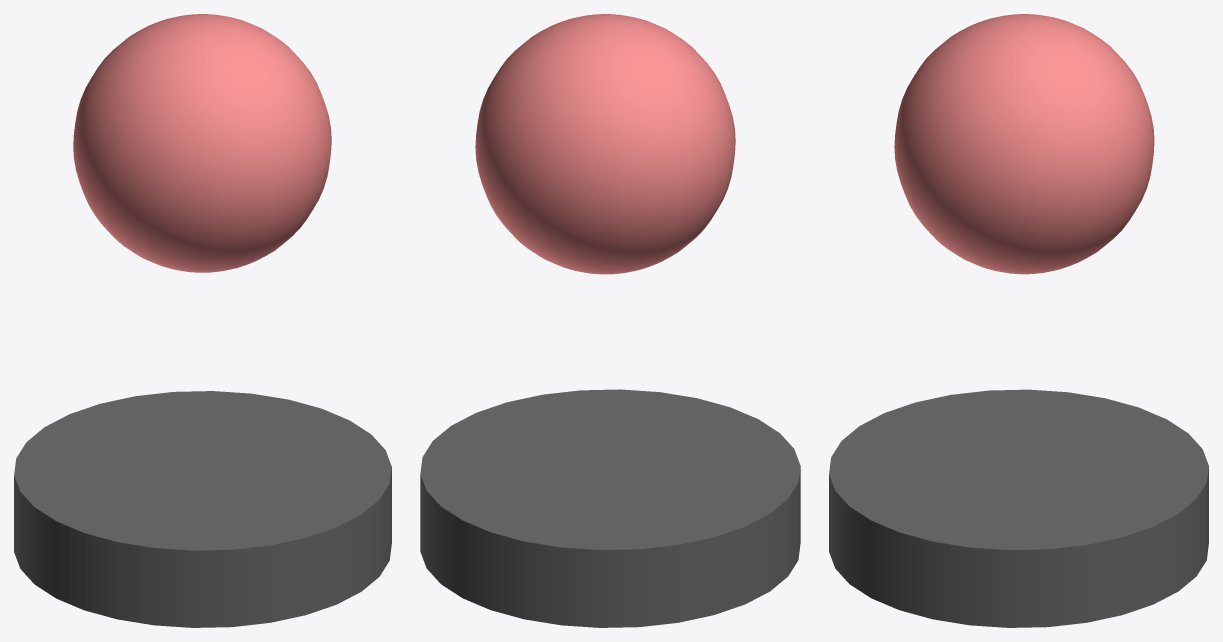
File: sphRed.glb
3 views of the same model, side by side, from view 1: azimuth 30°, elevation 25°; view 2: azimuth 150°, elevation 25°; view 3: azimuth 270°, elevation 25° (orthographic).
Visible parts, largest first — view 1: 029_Cylinder_-_baked_14, 028_Sphere_4; view 2: 029_Cylinder_-_baked_14, 028_Sphere_4; view 3: 029_Cylinder_-_baked_14, 028_Sphere_4.
Part boxes in pixels (box(x1,y1,x2,y2)): 029_Cylinder_-_baked_14: box(14, 391, 391, 627); 028_Sphere_4: box(73, 14, 331, 272); 029_Cylinder_-_baked_14: box(420, 389, 800, 627); 028_Sphere_4: box(475, 14, 735, 274); 029_Cylinder_-_baked_14: box(829, 389, 1208, 627); 028_Sphere_4: box(894, 14, 1154, 274).
Size of the model in its own units: 17.32 by 26.29 by 17.32.
